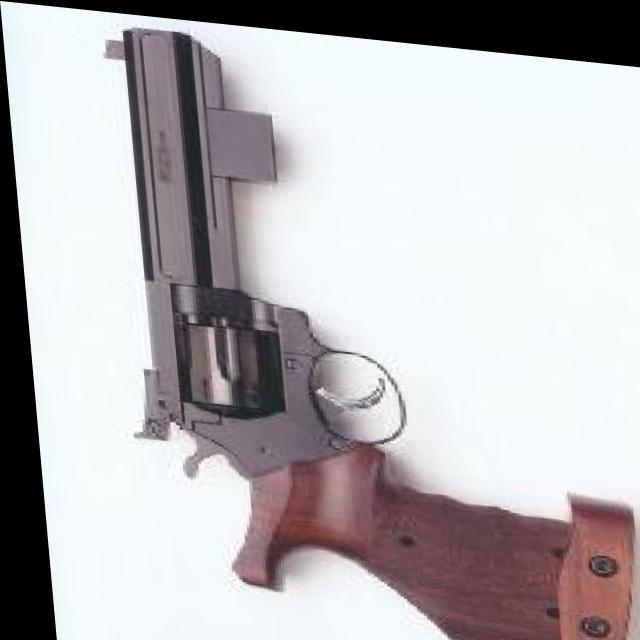handgun: (91, 20, 628, 640)
